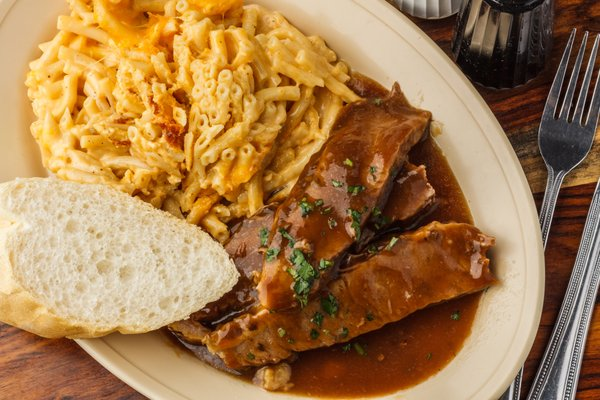soup: (170, 86, 499, 382), (0, 176, 242, 350)
